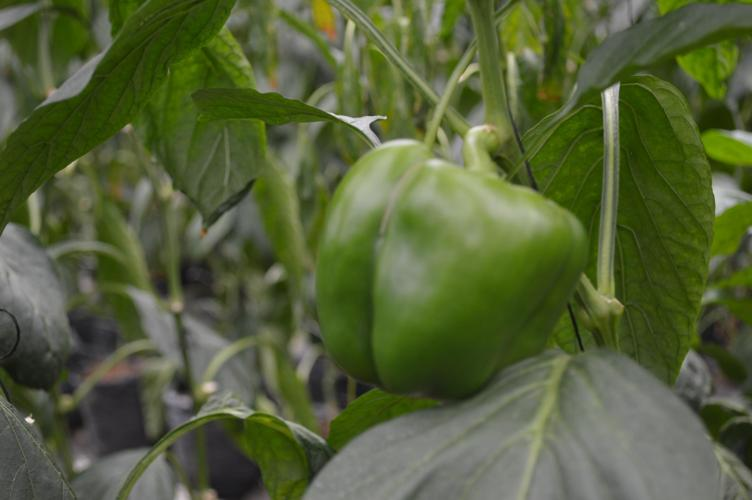BellPepper: (273, 138, 623, 451)
